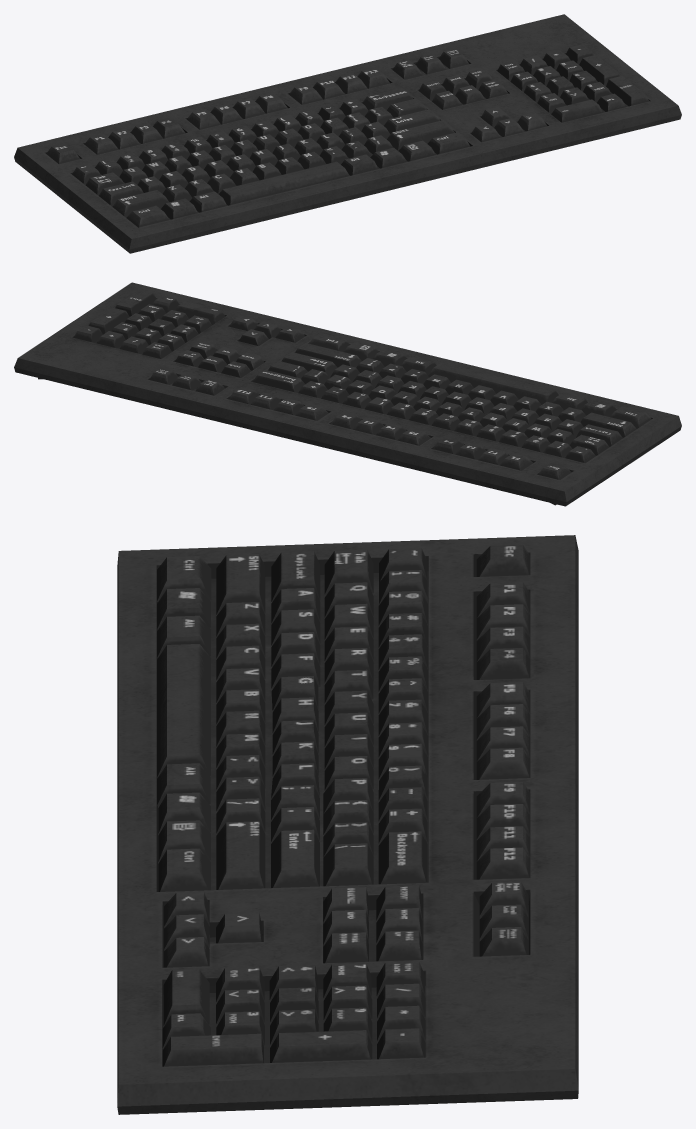
File: keyboard(1).glb
The picture shows the model from 3 angles, top to bottom: view 1: azimuth 30°, elevation 25°; view 2: azimuth 150°, elevation 25°; view 3: azimuth 270°, elevation 25°; orthographic projection. The views are drawn at different scales.
Parts seen in each view (by area): view 1: Keyboard; view 2: Keyboard; view 3: Keyboard.
Part boxes in pixels (<box>): Keyboard: <box>14,14,681,253</box>; Keyboard: <box>14,282,681,506</box>; Keyboard: <box>117,535,578,1114</box>.
Bounding box in the file's own units: 45.55 × 2.17 × 16.47.
Materials: 1 (1 with a texture image).
